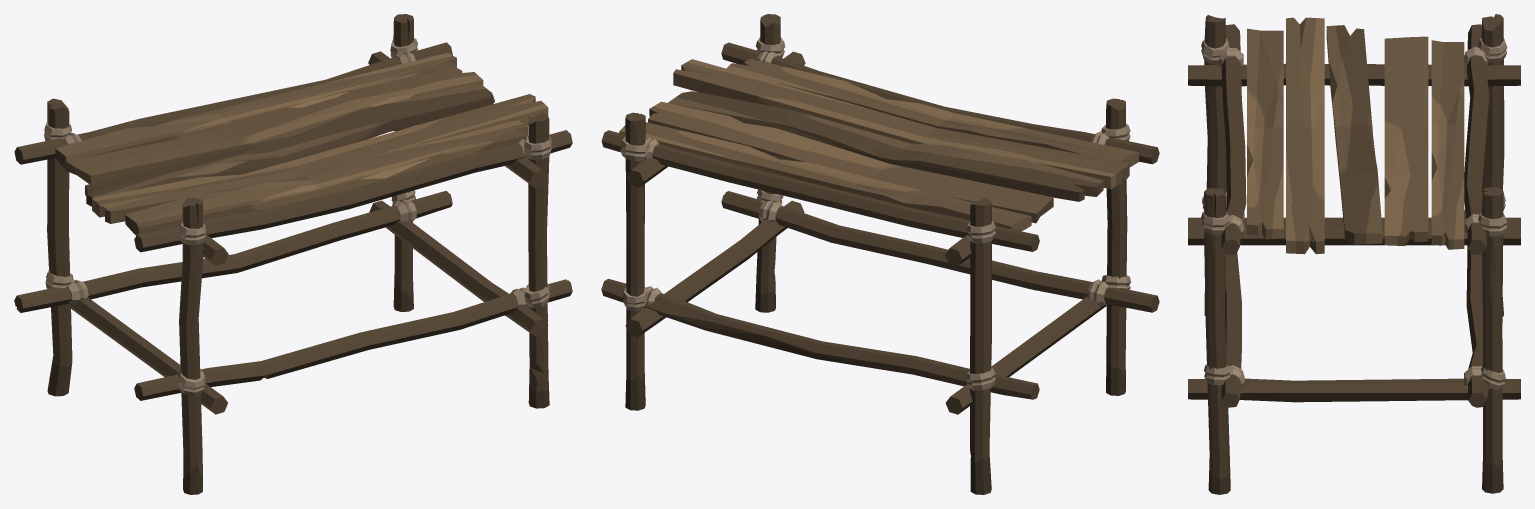
The model's file is SM_Prop_Scaffolding_02.fbx.
3 renders of one model, left to right at view 1: azimuth 30°, elevation 25°; view 2: azimuth 150°, elevation 25°; view 3: azimuth 270°, elevation 25°, orthographic. The views are drawn at different scales.
Visible parts, largest first — view 1: SM_Prop_Scaffolding_02; view 2: SM_Prop_Scaffolding_02; view 3: SM_Prop_Scaffolding_02.
Boxes of the visible parts, x1,y1,x2,y2 form: SM_Prop_Scaffolding_02: [14, 14, 572, 494]; SM_Prop_Scaffolding_02: [601, 14, 1159, 494]; SM_Prop_Scaffolding_02: [1188, 14, 1520, 494].
Bounding box in the file's own units: 437 × 275 × 278.
